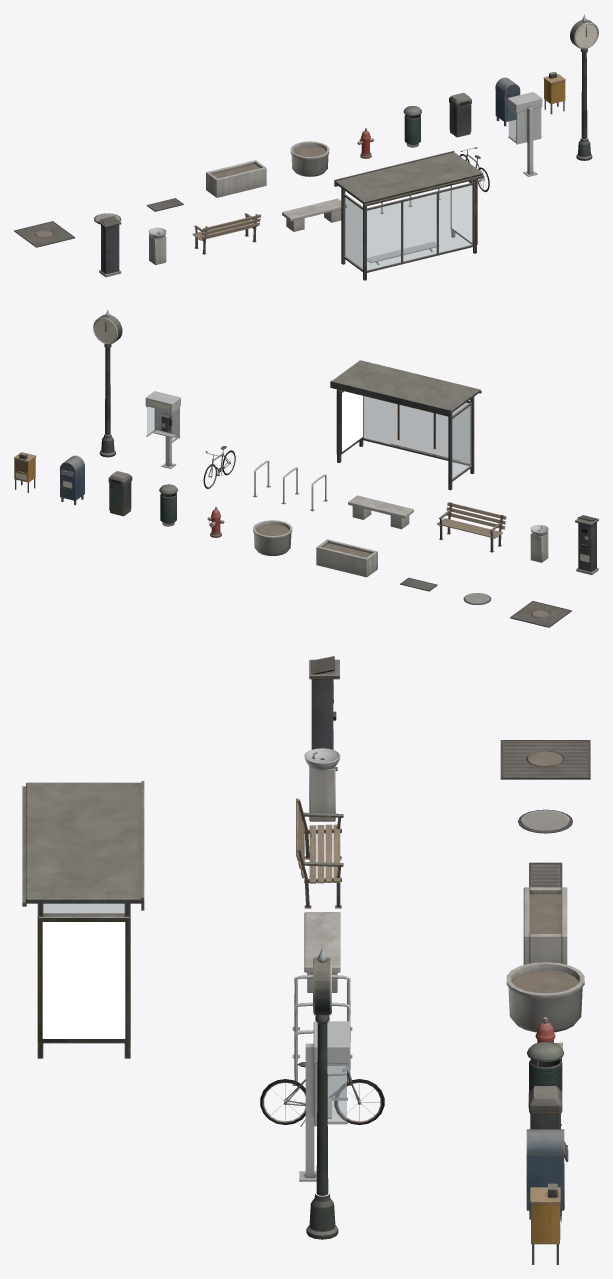
Rendered from set_sidewalk.glb.
3 renders of one model, top to bottom at view 1: azimuth 30°, elevation 25°; view 2: azimuth 150°, elevation 25°; view 3: azimuth 270°, elevation 25°, orthographic. The views are drawn at different scales.
Parts seen in each view (by area): view 1: bus_shelter_lod0, phone_kiosk_lod0, planter_box_lod0, street_clock_lod0, planter_round_lod0, ticket_machine_lod0, bench_concrete_lod0, bench_slat_lod0, tree_grate_lod0, bin_box_lod0, mailbox_lod0, newspaper_box_lod0 (+2 smaller); view 2: bus_shelter_lod0, phone_kiosk_lod0, planter_box_lod0, street_clock_lod0, bench_slat_lod0, planter_round_lod0, bench_concrete_lod0, ticket_machine_lod0, mailbox_lod0, tree_grate_lod0, bin_box_lod0, bin_round_lod0 (+4 smaller); view 3: bus_shelter_lod0, planter_round_lod0, street_clock_lod0, phone_kiosk_lod0, tree_grate_lod0, planter_box_lod0, bench_slat_lod0, mailbox_lod0, ticket_machine_lod0, bench_concrete_lod0, drinking_fountain_lod0, newspaper_box_lod0 (+6 smaller).
Part boxes in pixels (left/top/right/bottom): bus_shelter_lod0: left=334, top=150, right=484, bottom=280; phone_kiosk_lod0: left=507, top=92, right=542, bottom=176; planter_box_lod0: left=206, top=160, right=266, bottom=197; street_clock_lod0: left=570, top=14, right=598, bottom=160; planter_round_lod0: left=290, top=141, right=329, bottom=176; ticket_machine_lod0: left=98, top=216, right=121, bottom=277; bench_concrete_lod0: left=282, top=198, right=346, bottom=231; bench_slat_lod0: left=192, top=213, right=260, bottom=254; tree_grate_lod0: left=14, top=221, right=75, bottom=247; bin_box_lod0: left=449, top=92, right=471, bottom=137; mailbox_lod0: left=495, top=77, right=520, bottom=126; newspaper_box_lod0: left=543, top=71, right=565, bottom=114; bus_shelter_lod0: left=330, top=360, right=481, bottom=490; phone_kiosk_lod0: left=145, top=391, right=180, bottom=468; planter_box_lod0: left=316, top=539, right=377, bottom=577; street_clock_lod0: left=93, top=309, right=122, bottom=457; bench_slat_lod0: left=437, top=502, right=506, bottom=552; planter_round_lod0: left=253, top=520, right=292, bottom=555; bench_concrete_lod0: left=348, top=495, right=413, bottom=529; ticket_machine_lod0: left=575, top=515, right=598, bottom=574; mailbox_lod0: left=59, top=455, right=84, bottom=505; tree_grate_lod0: left=510, top=601, right=571, bottom=627; bin_box_lod0: left=108, top=471, right=132, bottom=516; bin_round_lod0: left=159, top=484, right=177, bottom=526; bus_shelter_lod0: left=22, top=781, right=144, bottom=1058; planter_round_lod0: left=506, top=962, right=584, bottom=1032; street_clock_lod0: left=306, top=946, right=338, bottom=1239; phone_kiosk_lod0: left=299, top=1021, right=350, bottom=1181; tree_grate_lod0: left=500, top=740, right=590, bottom=779; planter_box_lod0: left=523, top=887, right=567, bottom=964; bench_slat_lod0: left=296, top=798, right=343, bottom=908; mailbox_lod0: left=526, top=1129, right=568, bottom=1219; ticket_machine_lod0: left=309, top=656, right=339, bottom=749; bench_concrete_lod0: left=304, top=912, right=340, bottom=992; drinking_fountain_lod0: left=304, top=748, right=340, bottom=821; newspaper_box_lod0: left=530, top=1183, right=561, bottom=1264.
Size of what is drawn, in the model's own units: 17.1 by 4.36 by 7.83.
Materials: 3 (2 with a texture image).
